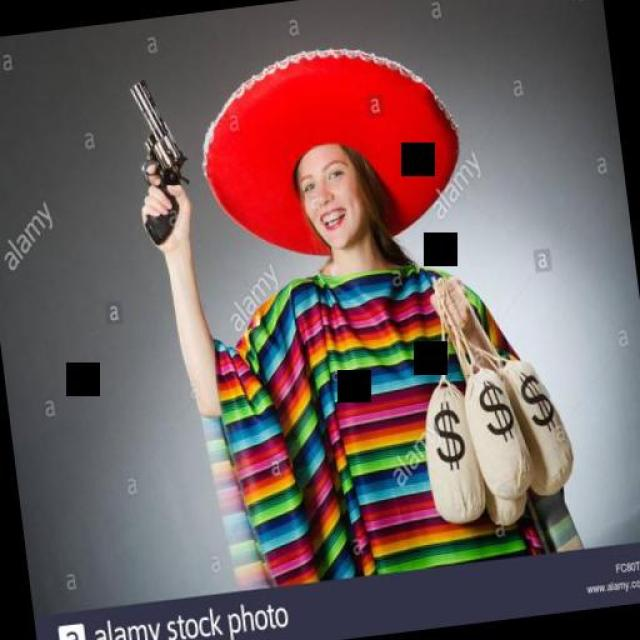gun: (109, 65, 196, 246)
